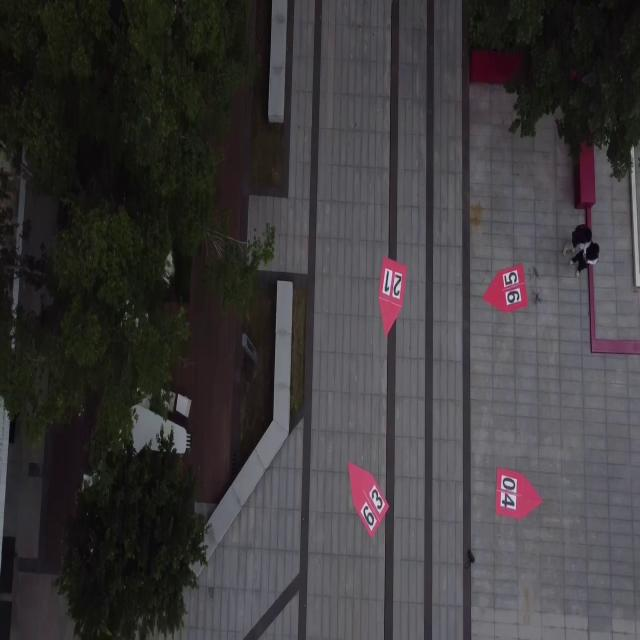-sign-: (348, 461, 388, 541), (496, 467, 543, 521), (378, 256, 408, 337), (482, 263, 528, 314)
